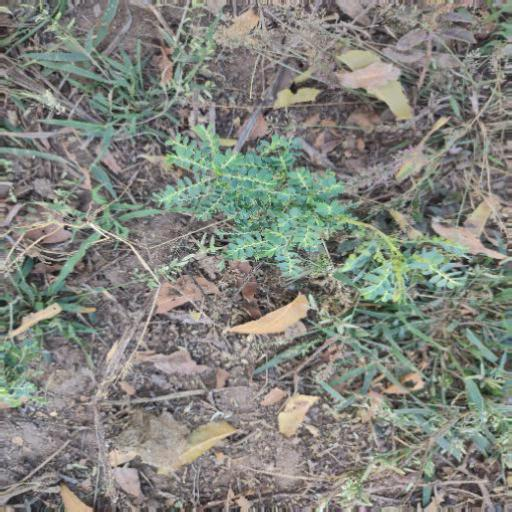weed: (170, 123, 330, 283), (351, 222, 463, 373)
